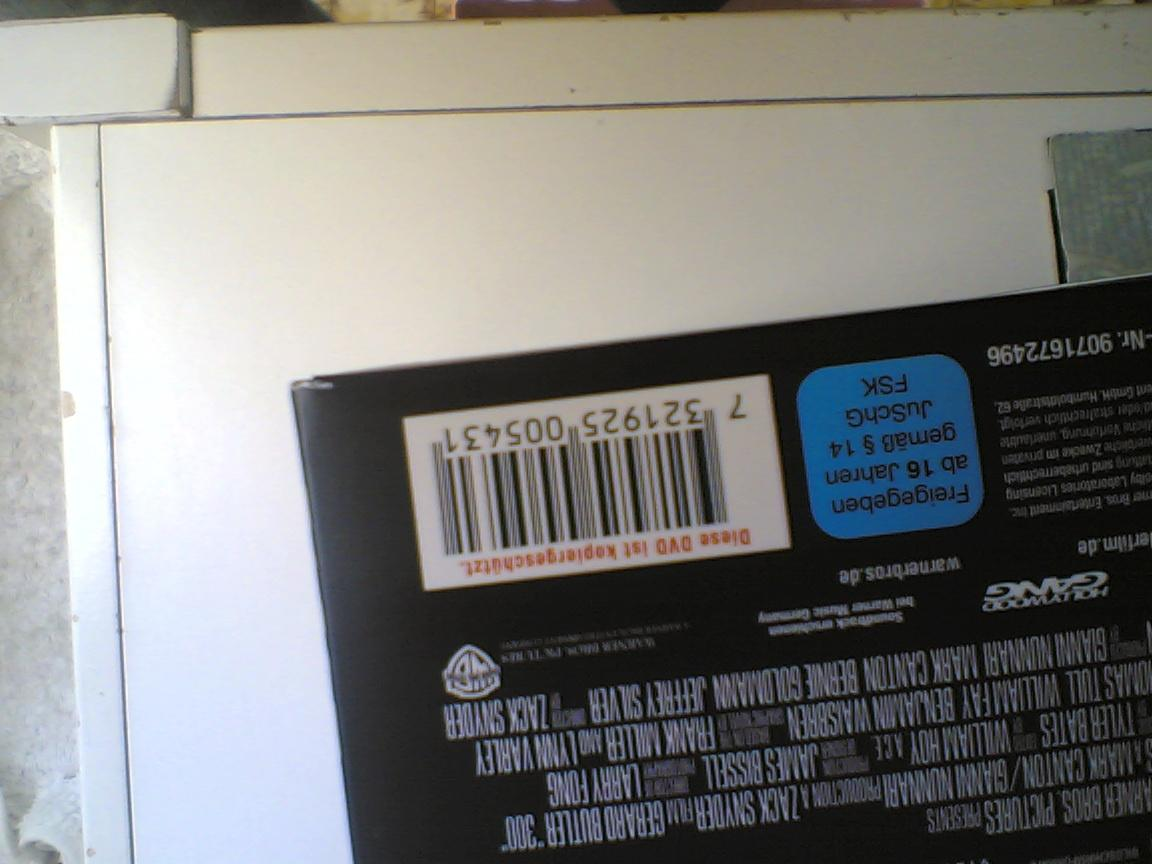Barcode: (403, 371, 795, 590)
